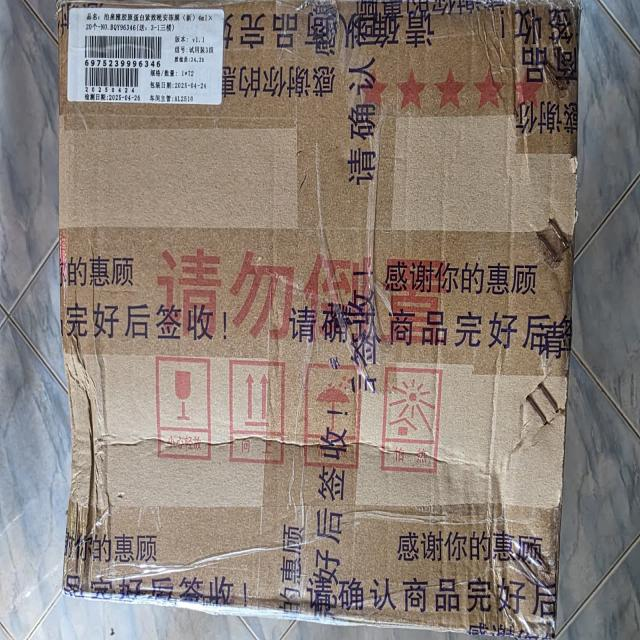carton_box: (47, 0, 571, 640)
export_mark_label: (57, 0, 240, 124)
fragile_label: (148, 340, 219, 476)
keep_dry_label: (301, 347, 366, 479)
package_damage: (53, 324, 109, 605)
protect_from_heat_label: (380, 354, 444, 482)
this_side_up_label: (228, 339, 293, 476)
